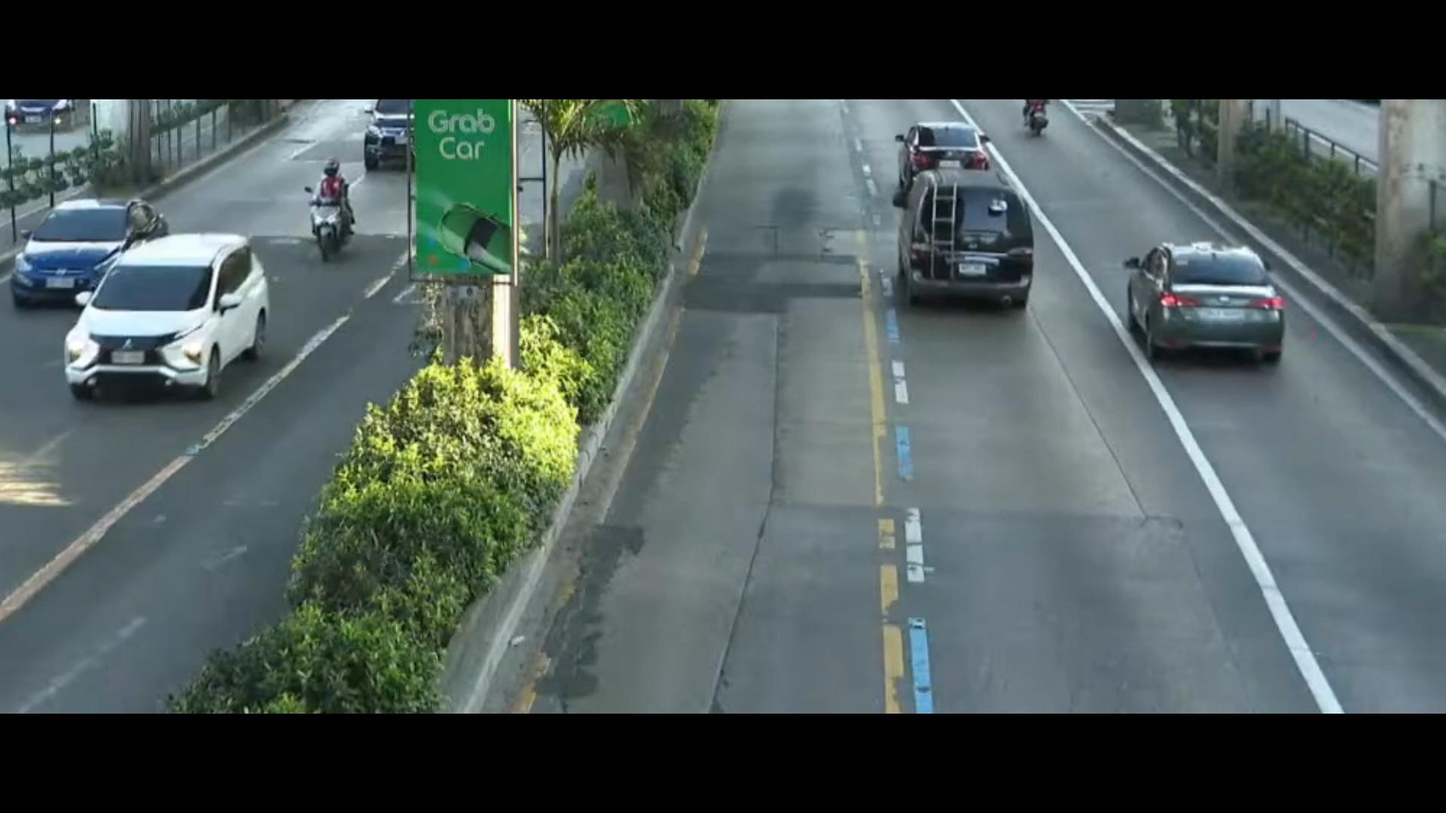Motorcycle: (299, 164, 358, 264)
SUV: (57, 228, 288, 407), (362, 96, 411, 169)
Sedan: (1112, 230, 1323, 357), (15, 181, 172, 288), (875, 117, 1006, 196)
Van: (873, 168, 1042, 300)
